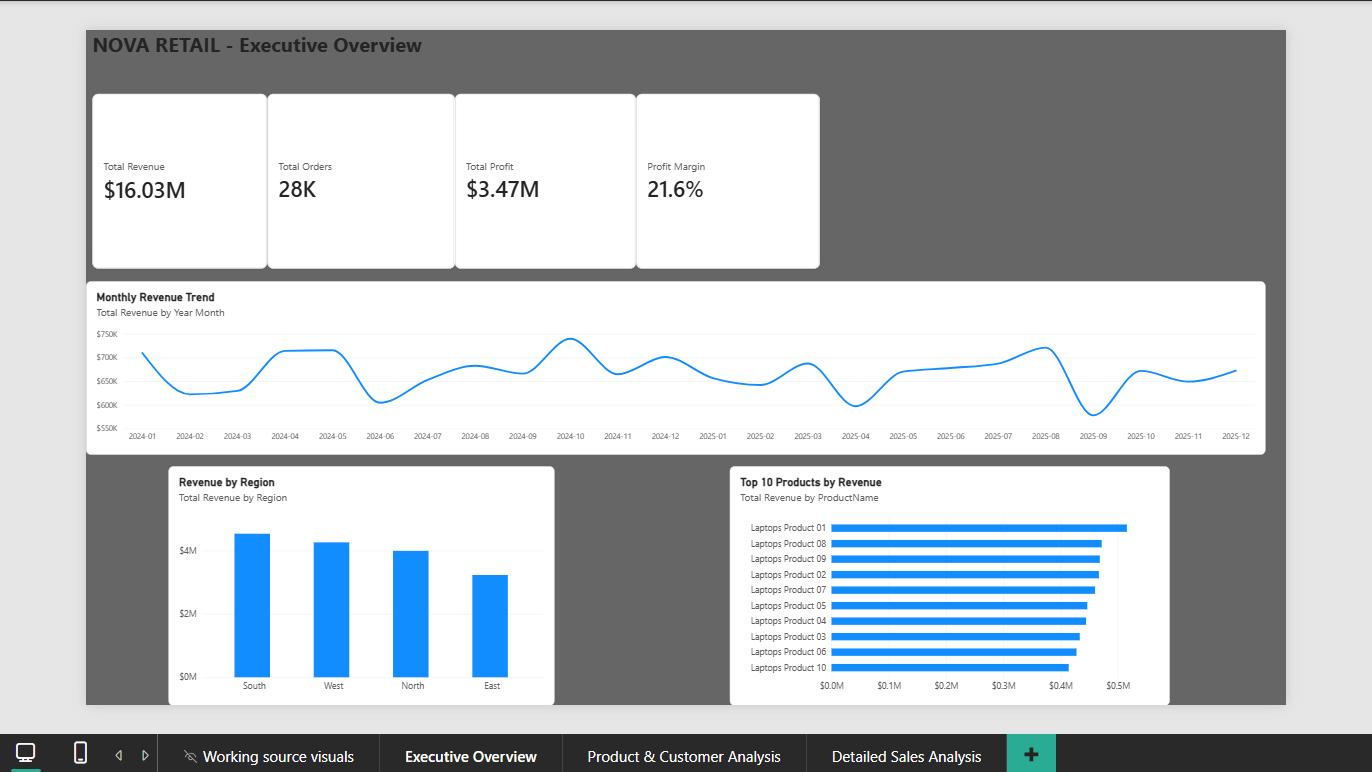

The page's visual inventory and layout, read from the dashboard file:
{"tool":"powerbi","page":{"name":"Executive Overview","canvas":[1920,1080],"ordinal":1},"visuals":[{"type":"cardVisual","fields":{"Data":["Sales_Raw.Total Profit"]},"box":[590.7,102.9,290.2,279.9],"z":0},{"type":"cardVisual","fields":{"Data":["Sales_Raw.Profit Margin"]},"box":[881,102.9,294.3,279.9],"z":1000},{"type":"cardVisual","fields":{"Data":["Sales_Raw.Total Revenue"]},"box":[10.3,102.9,280,280],"z":2000},{"type":"cardVisual","fields":{"Data":["Sales_Raw.Totel Orders"]},"box":[290.2,102.9,300.5,279.9],"z":3000},{"type":"lineChart","title":"Monthly Revenue Trend","fields":{"Y":["Sales_Raw.Total Revenue"],"Category":["Calendar.Year Month"]},"box":[0,401.4,1887.5,277.9],"z":4000},{"type":"clusteredColumnChart","title":" Revenue by Region","fields":{"Category":["Customers.Region"],"Y":["Sales_Raw.Total Revenue"]},"box":[131.7,697.8,617.5,382.8],"z":5000},{"type":"clusteredBarChart","title":"Top 10 Products by Revenue","fields":{"Category":["Products.ProductName"],"Y":["Sales_Raw.Total Revenue"]},"box":[1029.2,697.8,703.9,382.8],"z":6000},{"type":"textbox","box":[10.3,0,594.9,96.7],"z":7000}]}

Visuals, with their boxes on the page's 1920x1080 design canvas (x1, y1, x2, y2). These are canvas units, not pixel positions in the 1372x772 screenshot, which may show the page scaled, cropped or inside an application window:
cardVisual - Sales_Raw.Total Profit: x1=591, y1=103, x2=881, y2=383
cardVisual - Sales_Raw.Profit Margin: x1=881, y1=103, x2=1175, y2=383
cardVisual - Sales_Raw.Total Revenue: x1=10, y1=103, x2=290, y2=383
cardVisual - Sales_Raw.Totel Orders: x1=290, y1=103, x2=591, y2=383
"Monthly Revenue Trend" lineChart: x1=0, y1=401, x2=1888, y2=679
" Revenue by Region" clusteredColumnChart: x1=132, y1=698, x2=749, y2=1081
"Top 10 Products by Revenue" clusteredBarChart: x1=1029, y1=698, x2=1733, y2=1081
textbox: x1=10, y1=0, x2=605, y2=97
